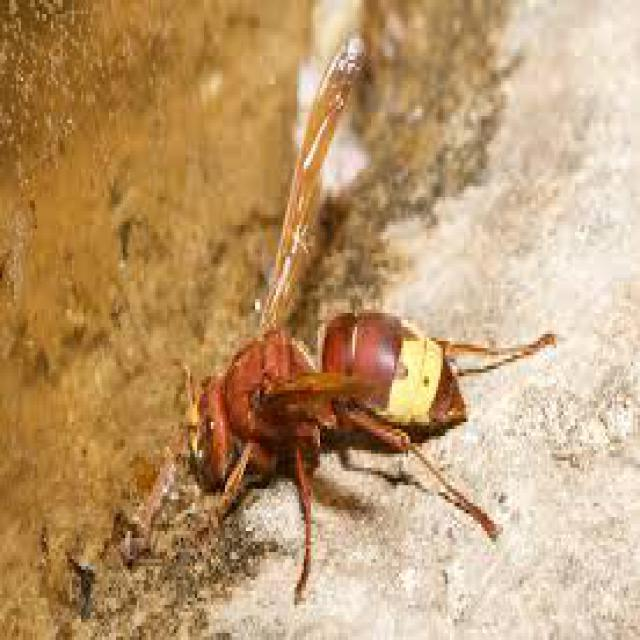Vespa Orientalis: (152, 19, 570, 619)
